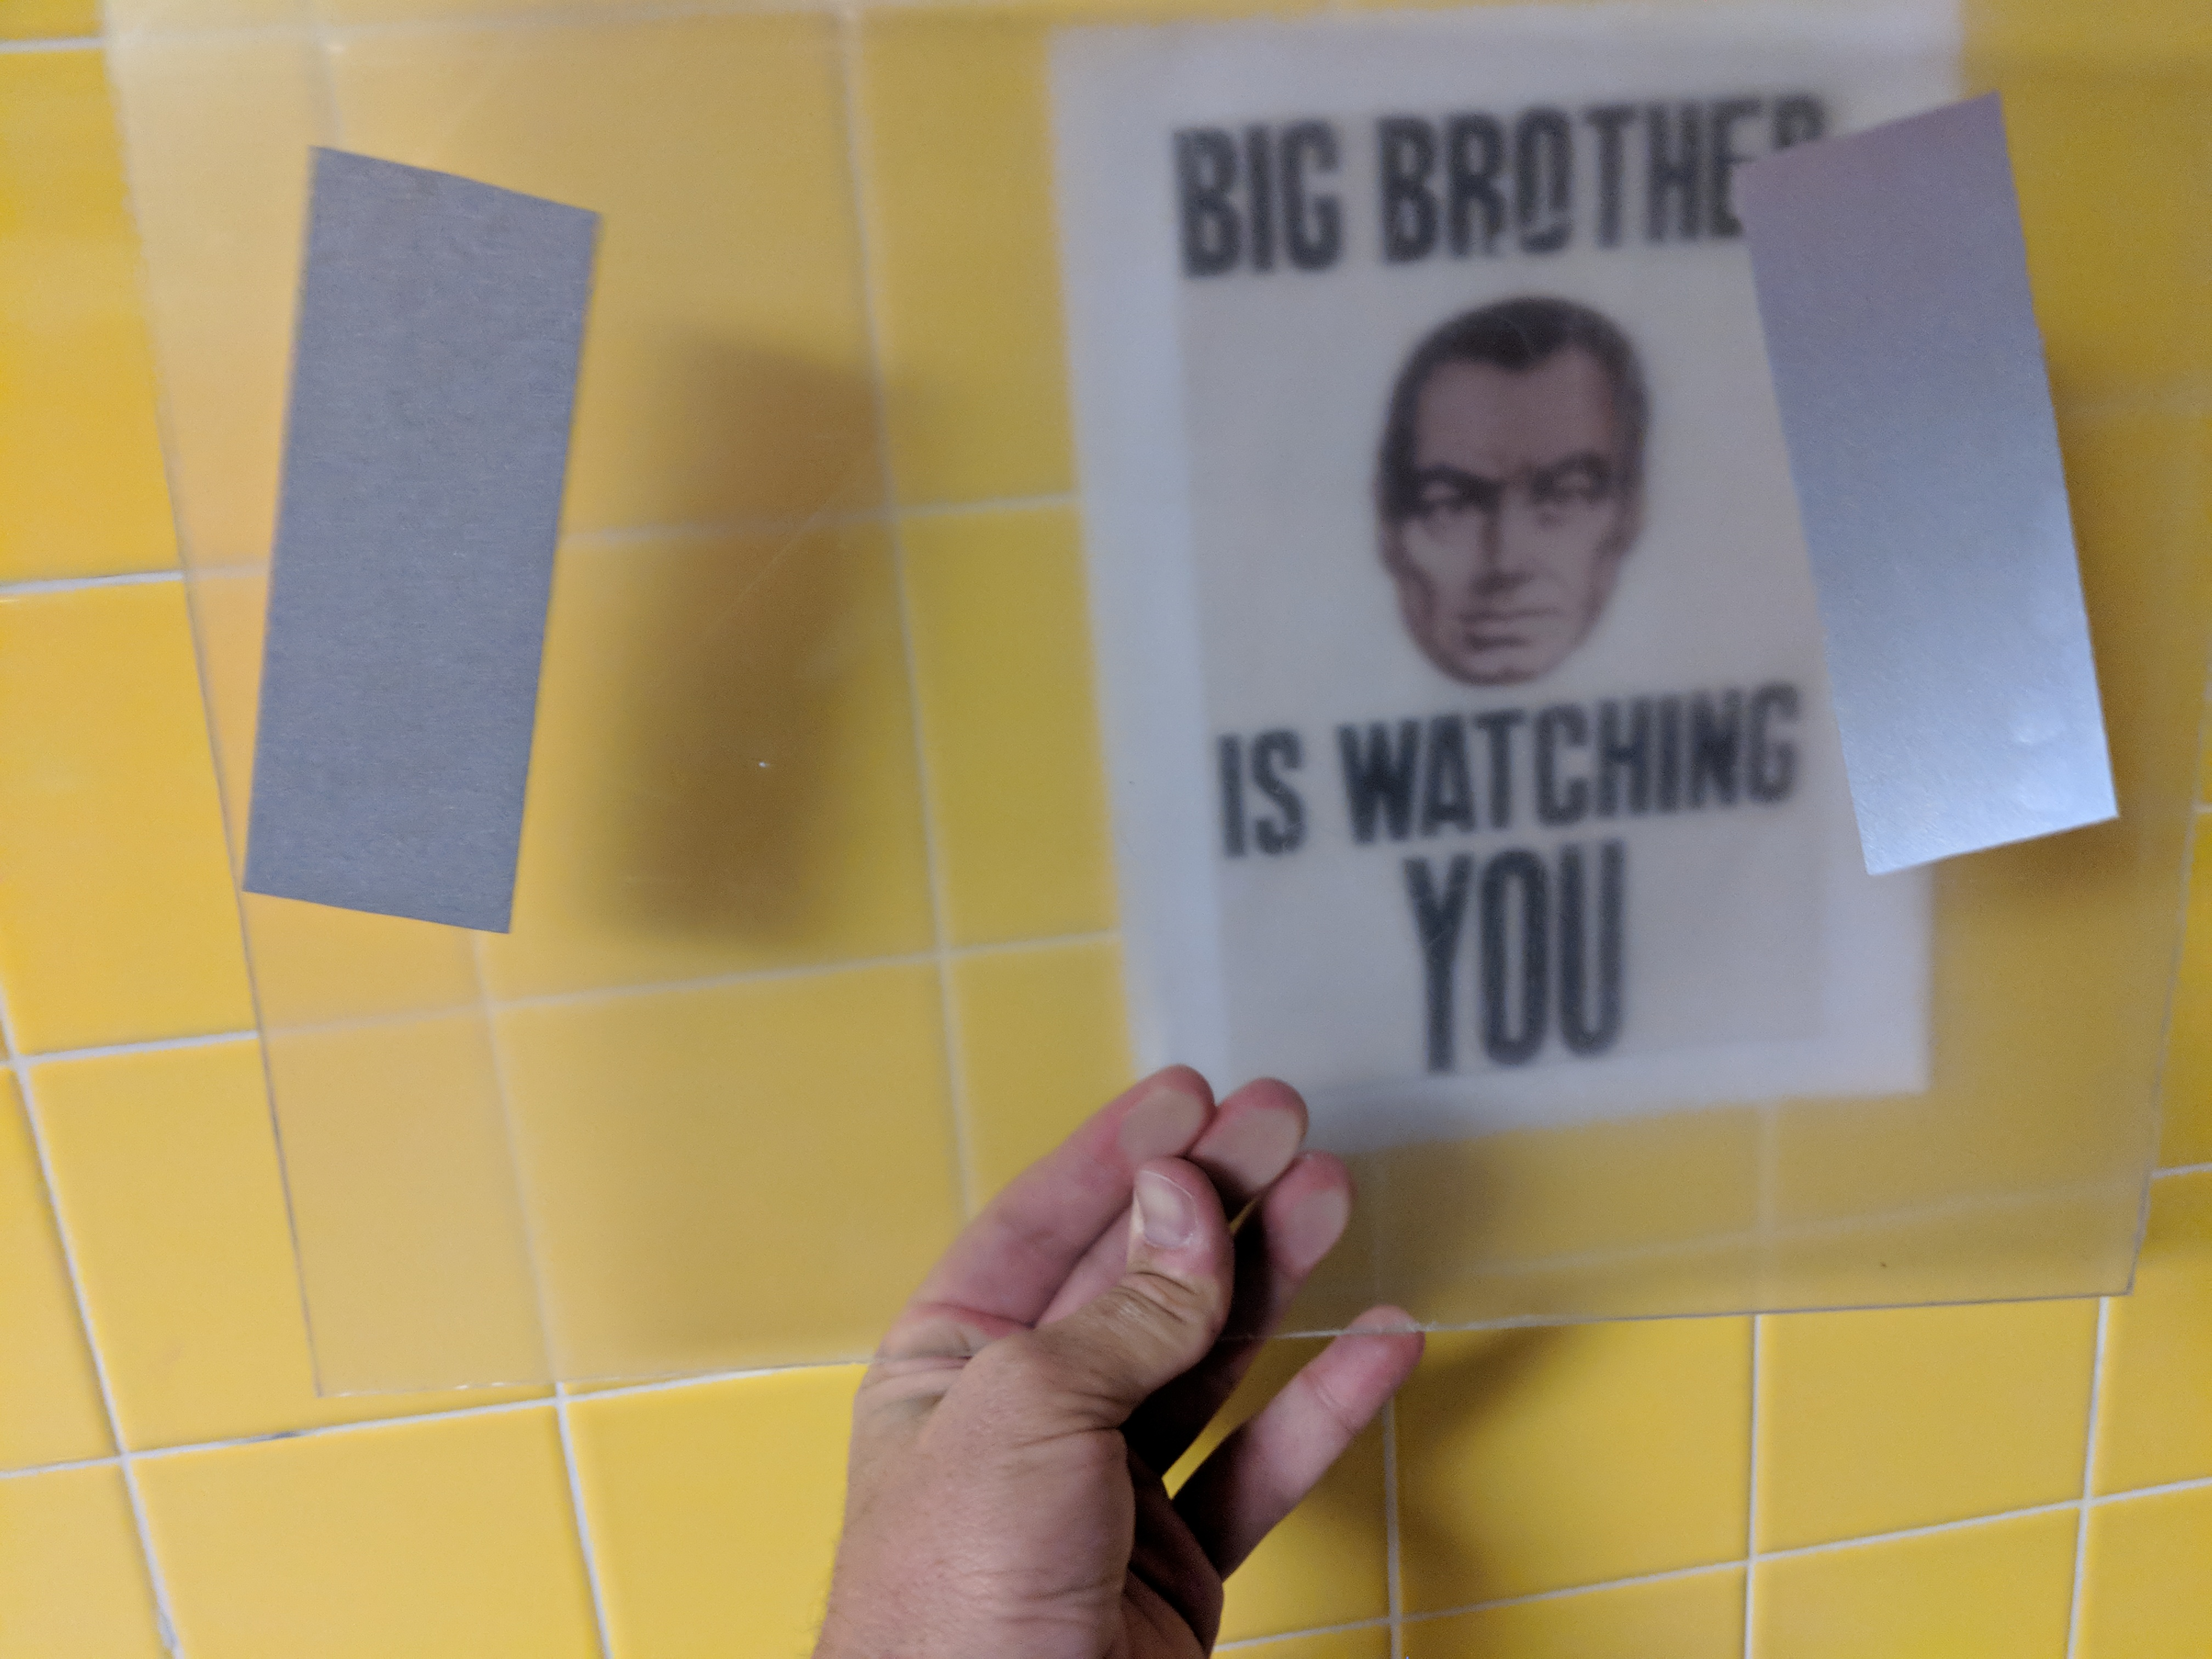vision_target: (228, 84, 2134, 936)
